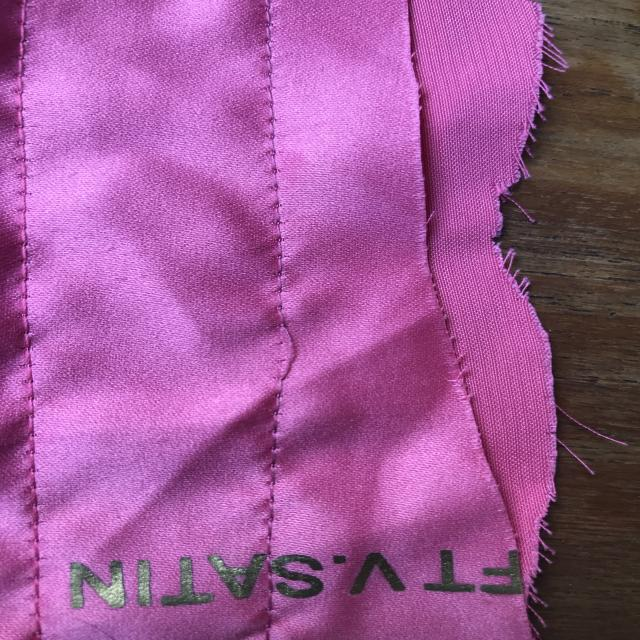skip: (256, 307, 306, 400)
